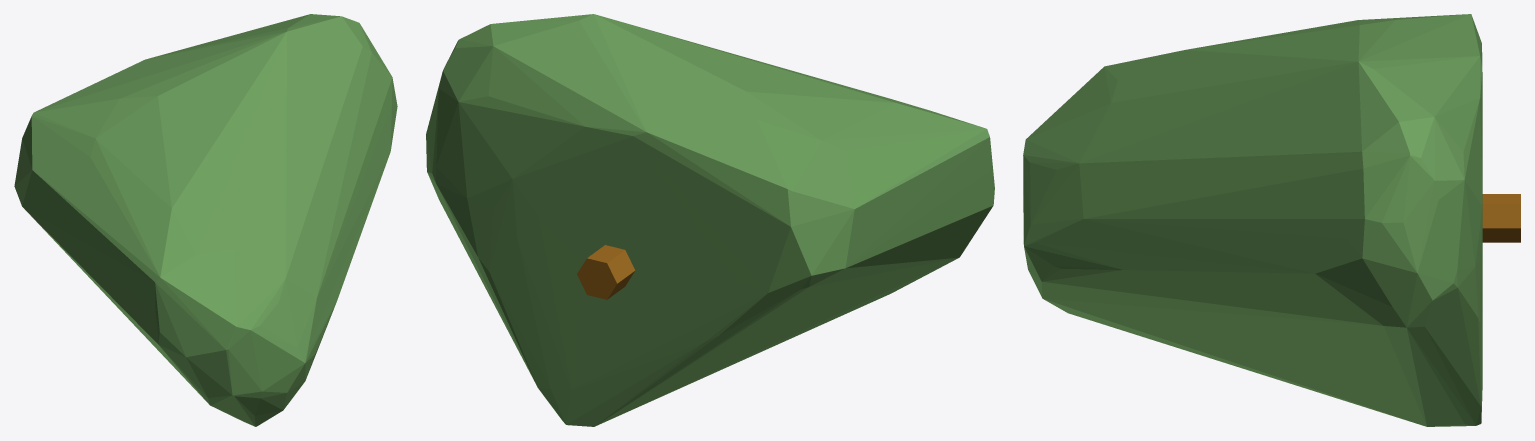
Rendered from conifer_lod3.obj.
3 renders of one model, left to right at view 1: azimuth 30°, elevation 25°; view 2: azimuth 150°, elevation 25°; view 3: azimuth 270°, elevation 25°, orthographic. The views are drawn at different scales.
Bounding box in the file's own units: 20.16 × 16.42 × 19.6.
